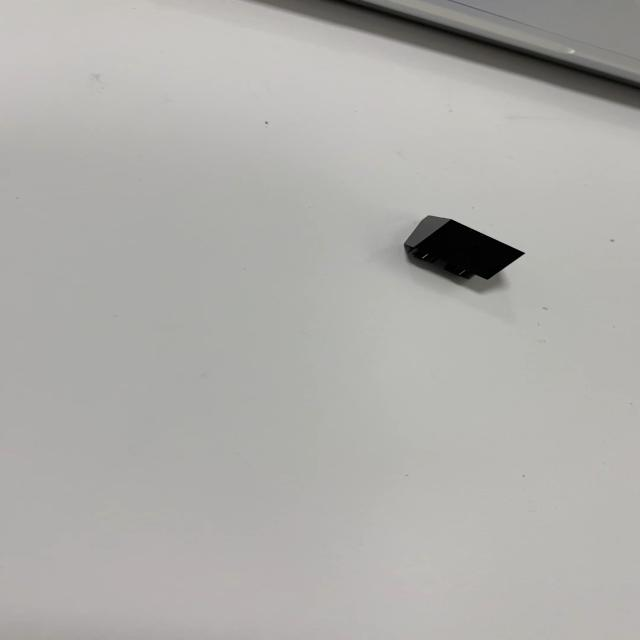P2x2x1: (402, 214, 526, 281)
